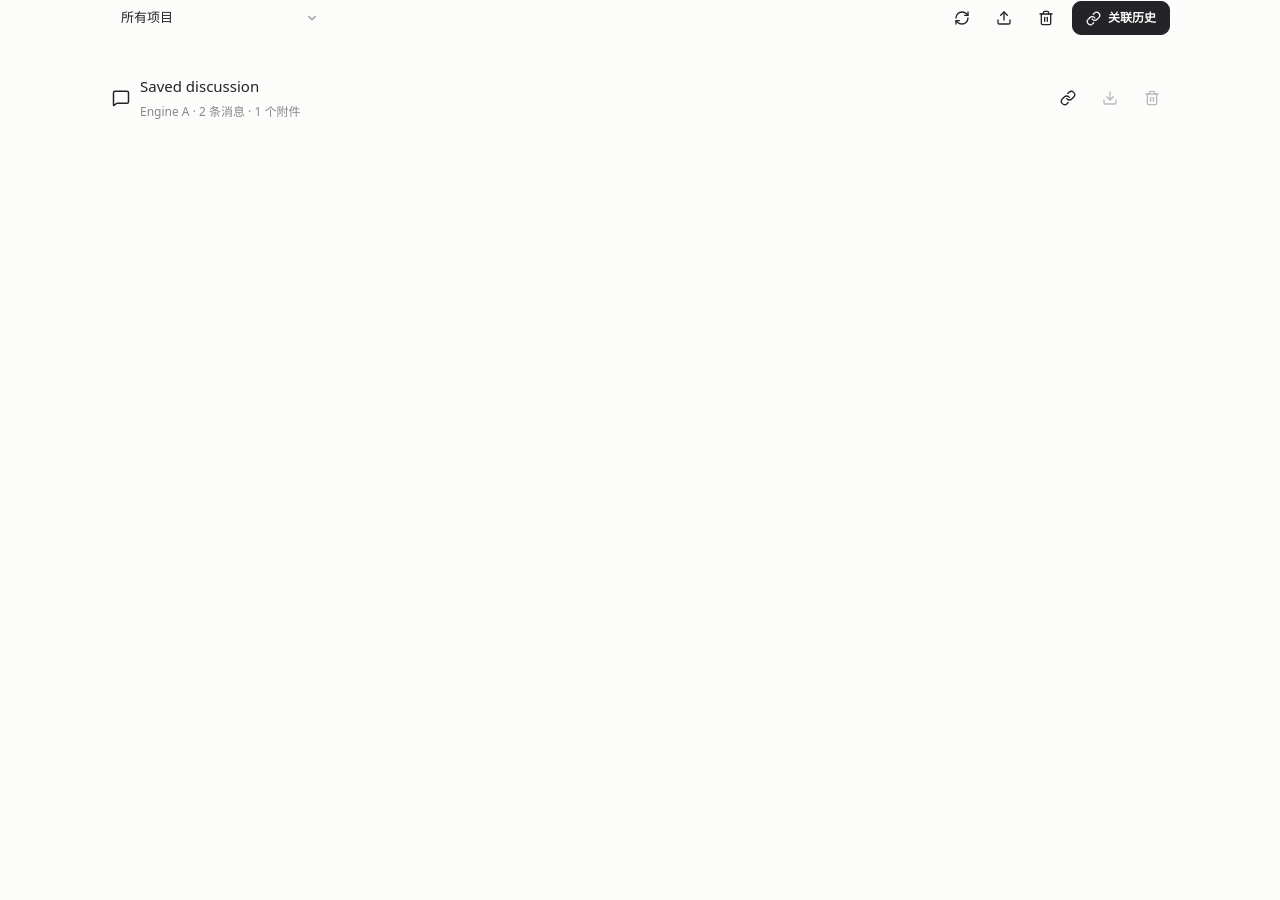
orphaned trash selects a destination and retains it after a failed restore
Expected: the button "Saved discussion" is shown, [140, 75, 259, 98]
Step 1. Click the button named "回收站" → (1046, 18), box [1030, 2, 1062, 34]
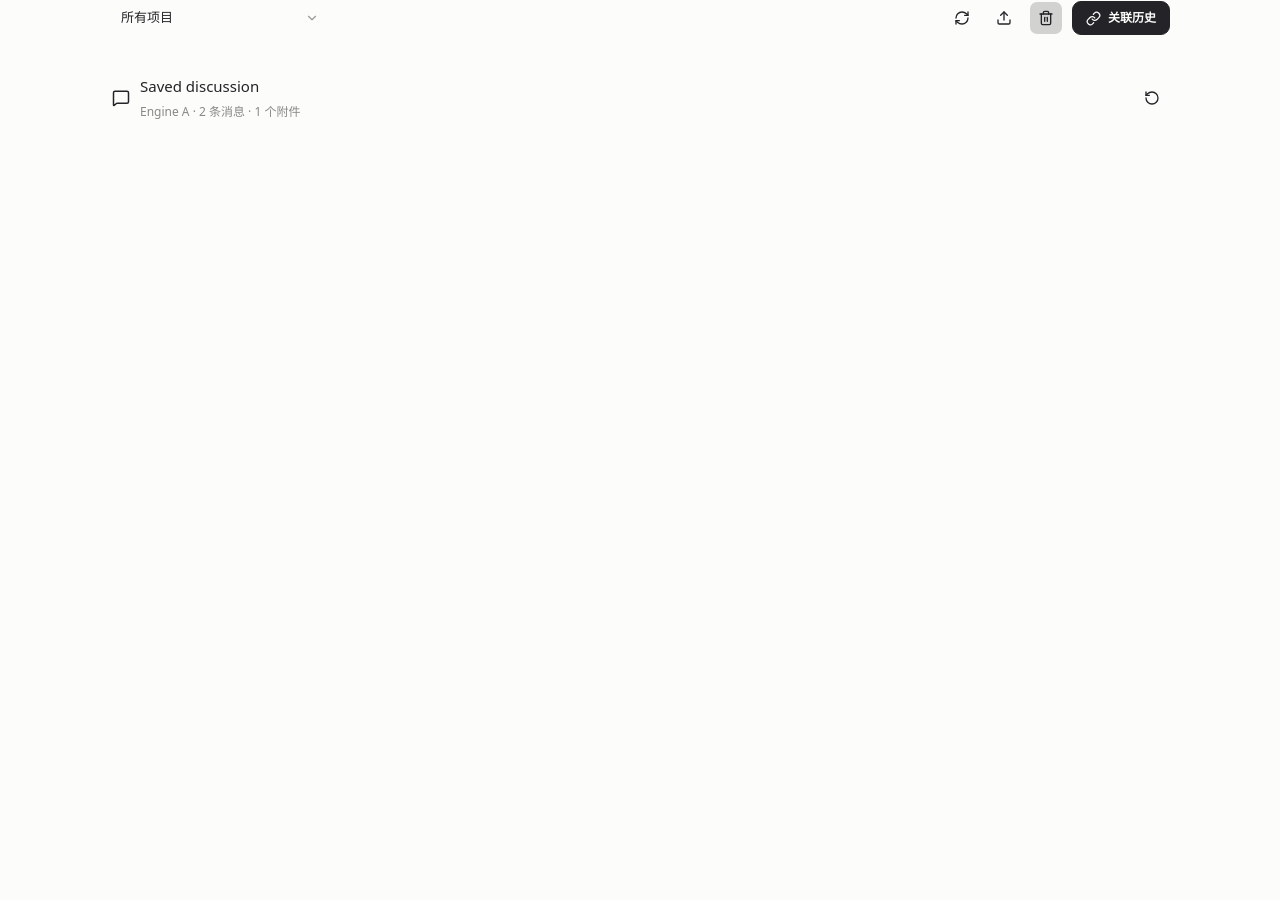
Step 2. Click the button named "恢复" → (1152, 98), box [1136, 82, 1168, 114]
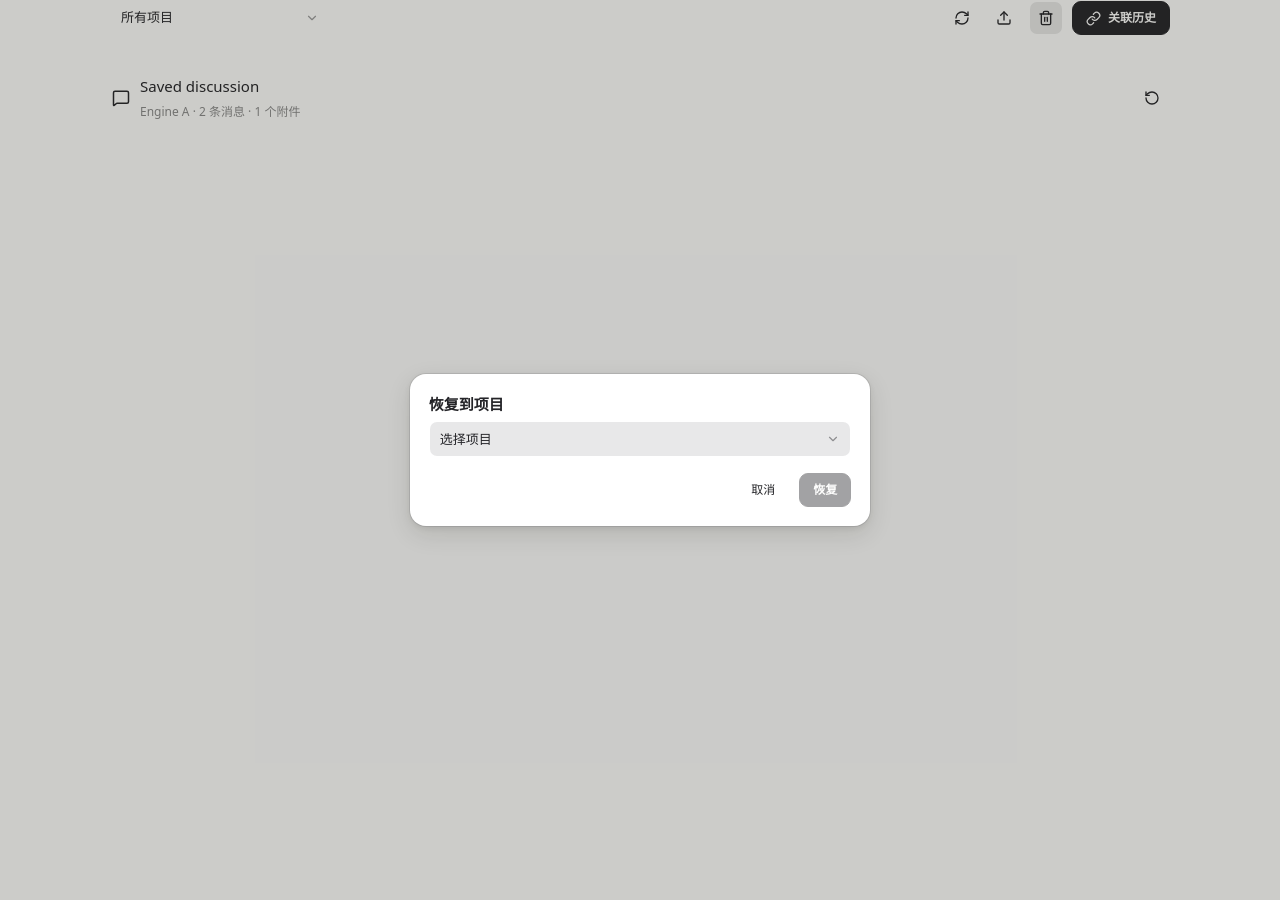
Expected: the heading "恢复到项目" is shown, [429, 394, 504, 414]
Expected: the button "恢复" is disabled, [799, 473, 851, 507]
Step 3. Click the dropdown labelled "项目" → (466, 438), box [429, 421, 851, 457]
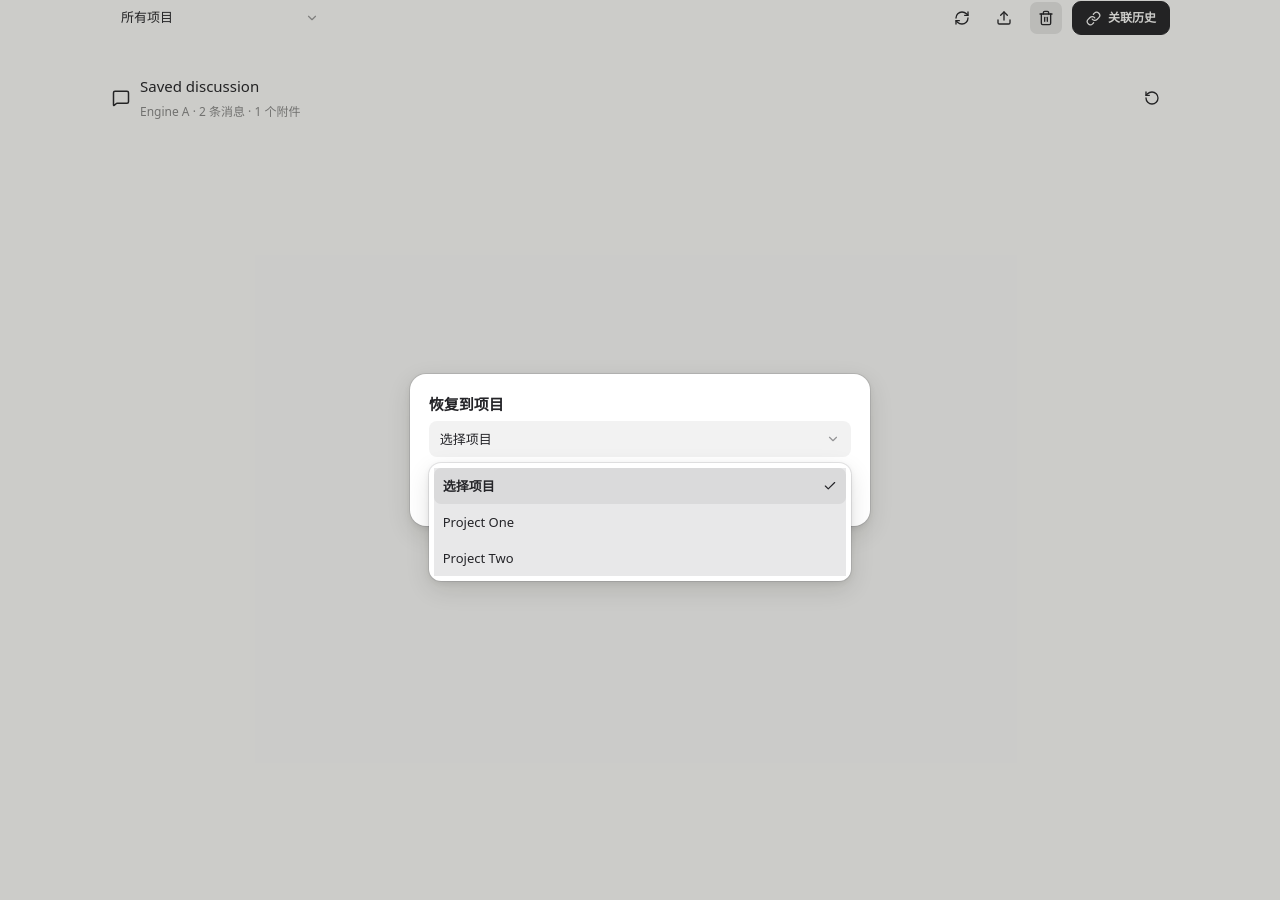
Step 4. Click the option "Project Two" → (478, 558), box [443, 549, 514, 567]
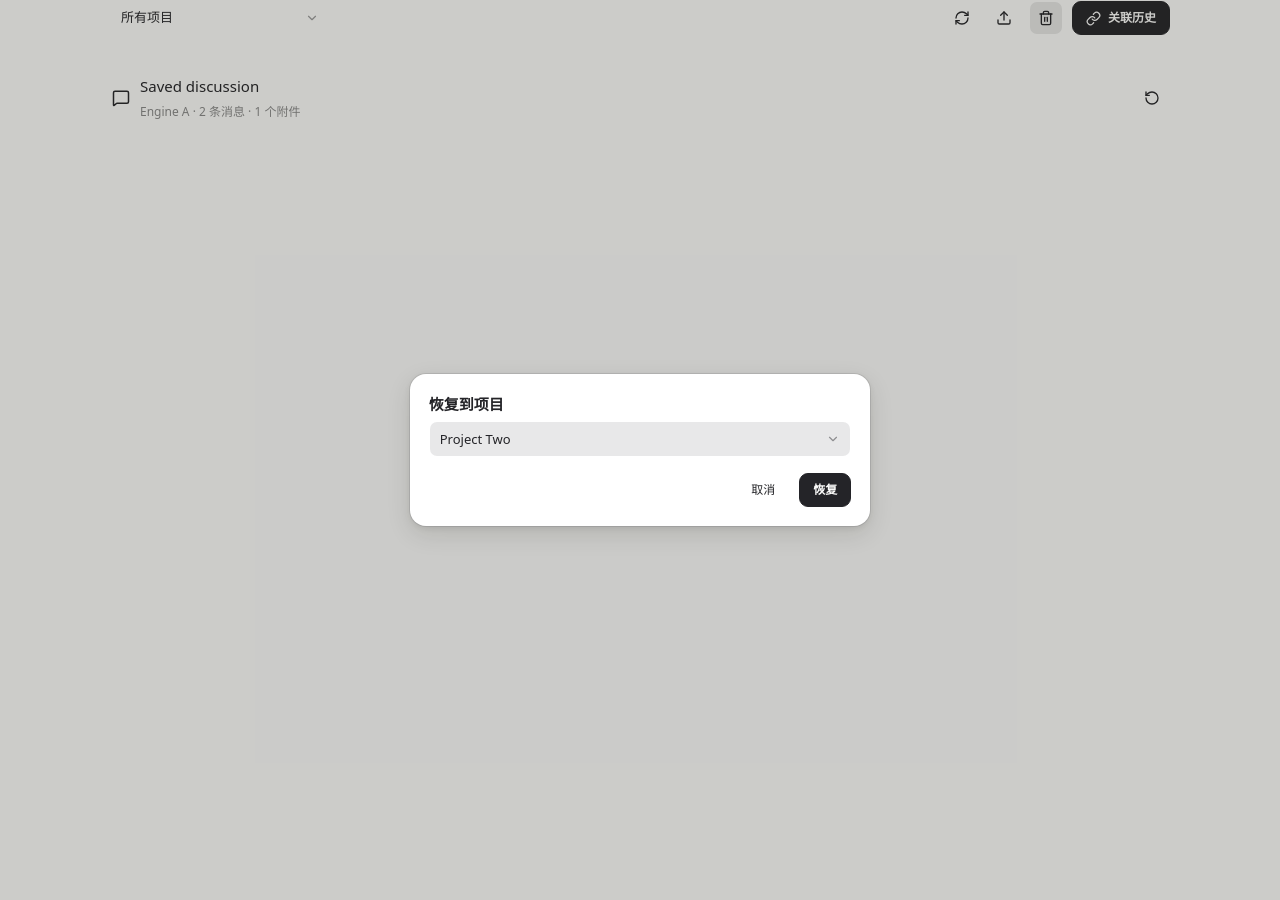
Step 5. Click the button "恢复" → (825, 490), box [799, 473, 851, 507]
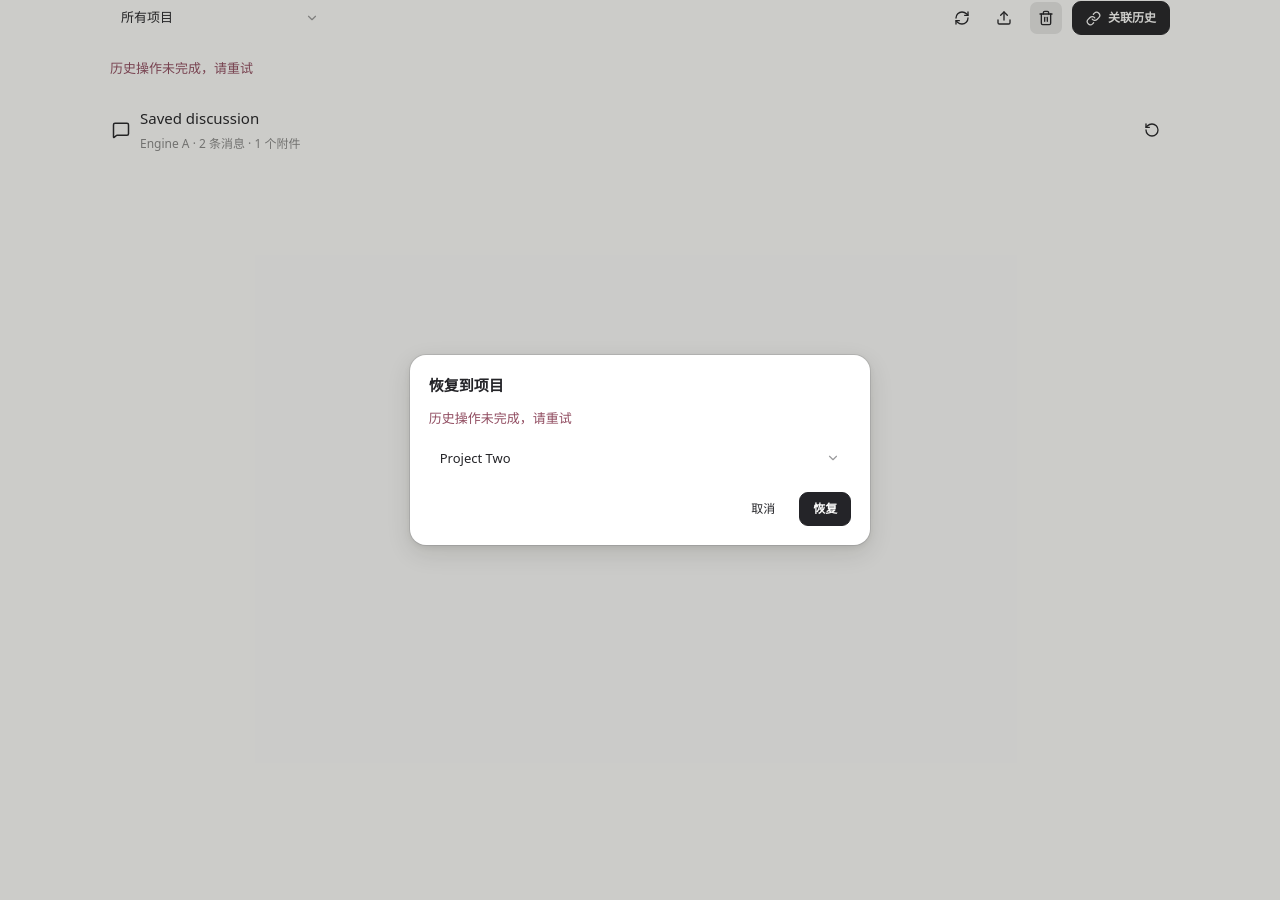
Expected: the dropdown named "项目" reads "Project Two", [429, 440, 851, 476]
Expected: the message "历史操作未完成，请重试" is shown, [429, 409, 572, 427]
Step 6. Click the button "恢复" → (825, 509), box [799, 492, 851, 526]
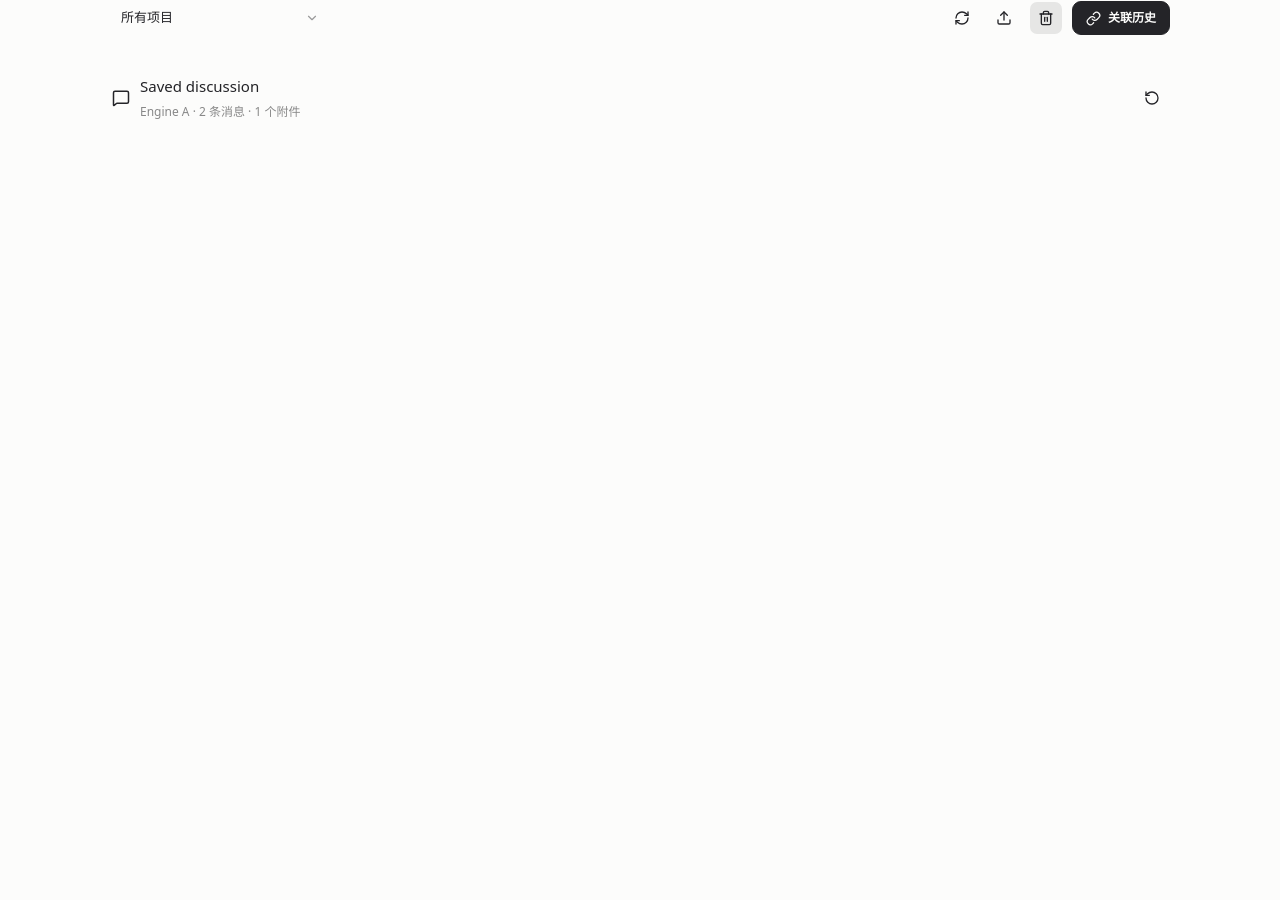
Expected: the dialog is gone
